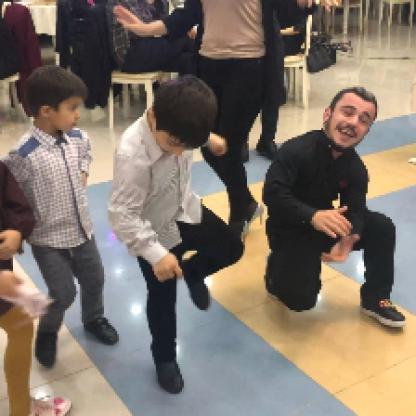child: (2, 64, 119, 371)
